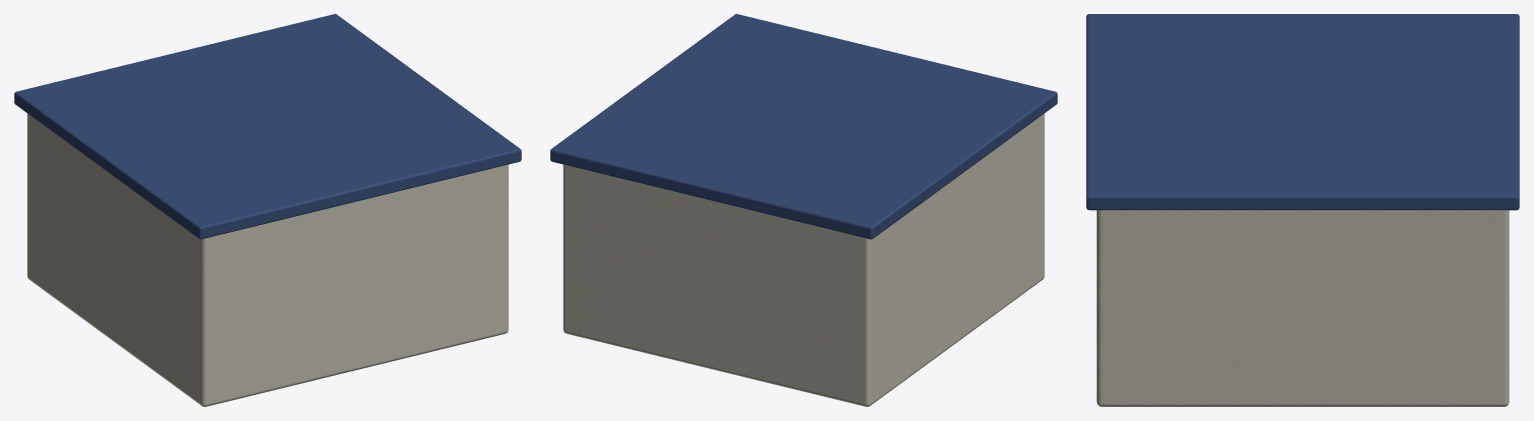
The model's file is arcane-academy-and-spell-trials-landing-5101d108__28279.glb.
3 views of the same model, side by side, from view 1: azimuth 30°, elevation 25°; view 2: azimuth 150°, elevation 25°; view 3: azimuth 270°, elevation 25° (orthographic). The views are drawn at different scales.
Visible parts, largest first — view 1: landing; view 2: landing; view 3: landing.
Boxes of the visible parts, left/top/right/bottom form: landing: left=14, top=14, right=521, bottom=406; landing: left=550, top=14, right=1057, bottom=406; landing: left=1086, top=14, right=1519, bottom=406.
Size of the model in its own units: 2.1 by 1.16 by 2.1.
2 materials, 1 textured.
